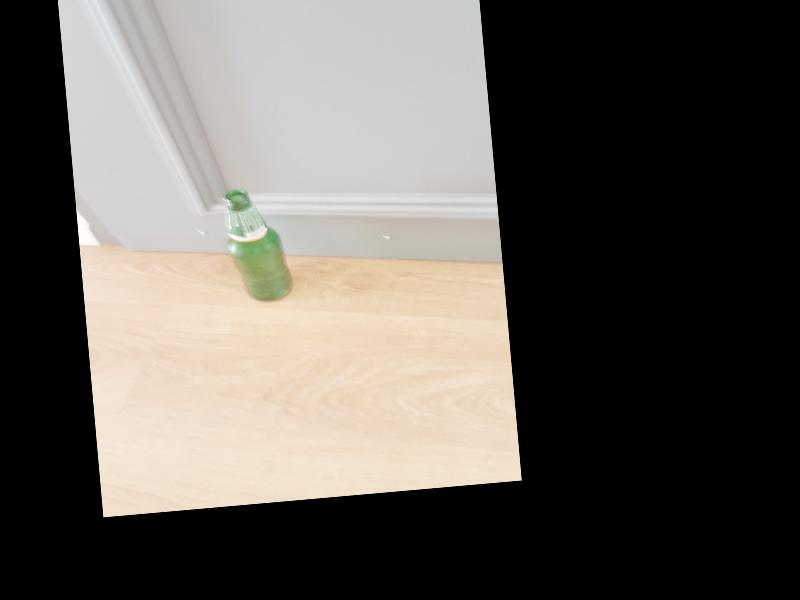Beer: (224, 187, 292, 304)
